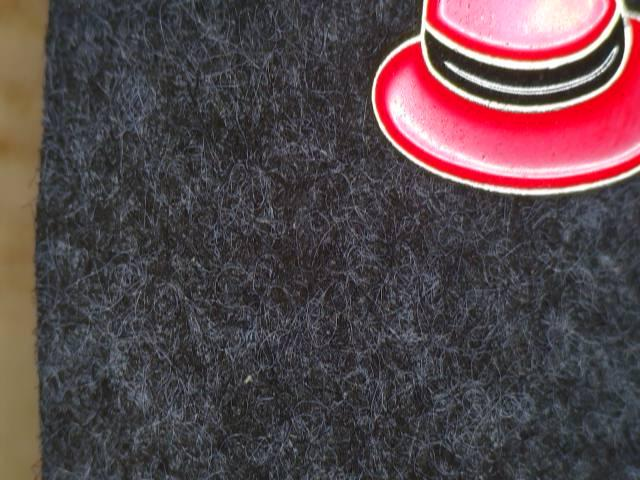Red-Hat: (362, 0, 640, 220)
